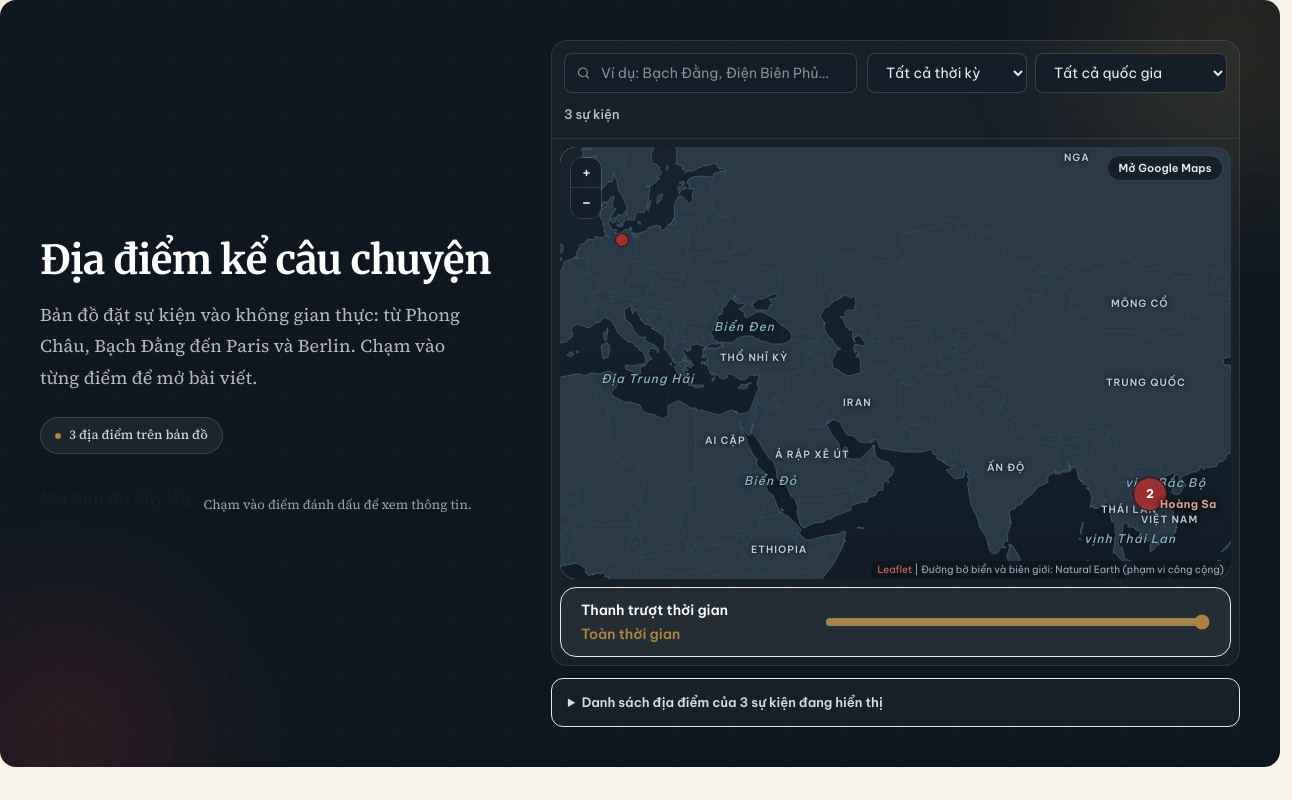
Test: bộ lọc trên bản đồ trang chủ › số địa điểm ở cột chữ đổi theo bộ lọc
Expected: the text "3 địa điểm trên bản đồ" is shown, [69,424,208,447]
Select "Việt Nam" in the dropdown with id "home-map-country" at [1131, 73], box [1035,53,1227,93]
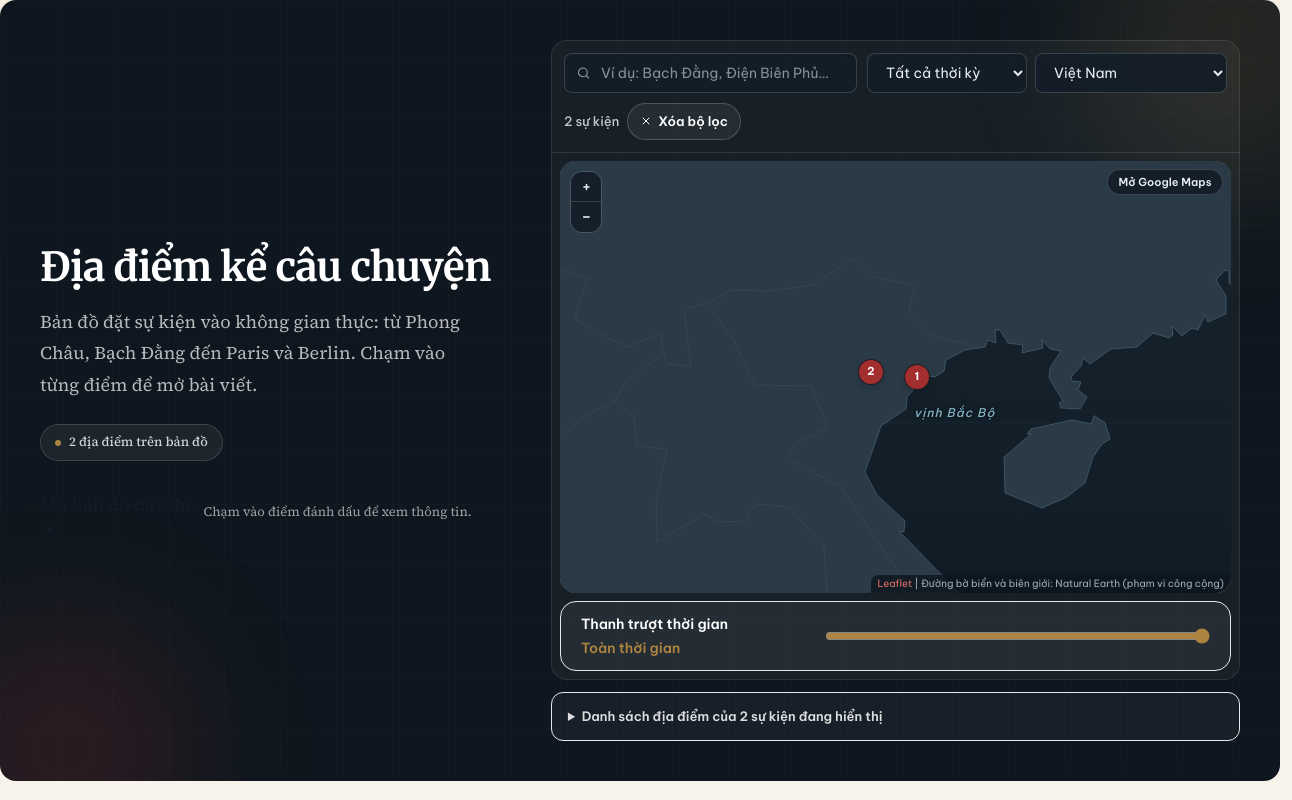
Expected: the text "2 địa điểm trên bản đồ" is shown, [69,431,208,454]
